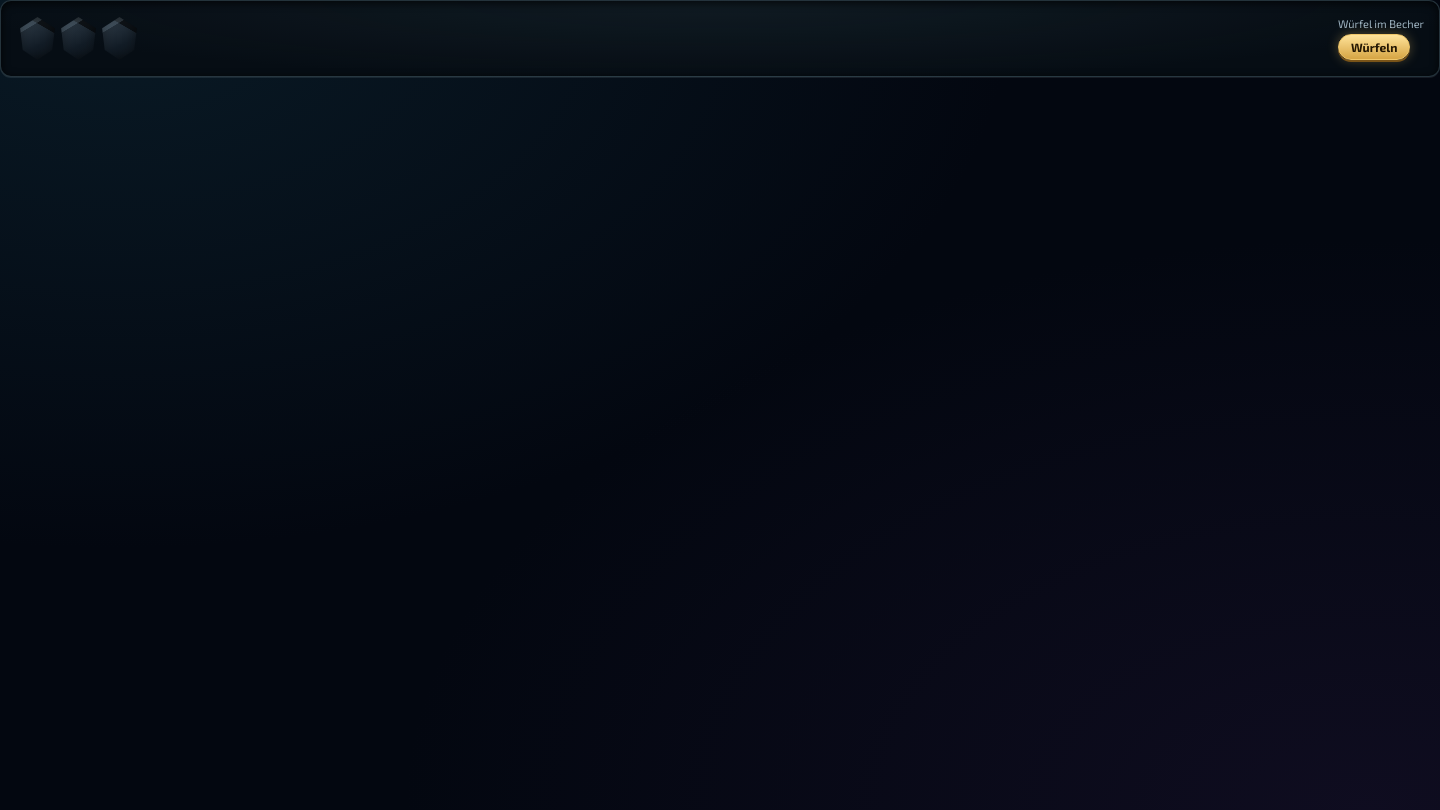
it: Würfelbecher am Tisch (eigener Wurf) › der eigene Wurf bleibt im Becher, bis „Würfeln“ ihn wirft; dann rollt er wie gewohnt
Expected: the text "Würfel im Becher" is shown, [1338,17,1424,30]
Expected: the text "2 Treffer" is not shown
Click the button "Würfeln" at (1374, 47), box [1338,34,1410,60]
Wait 940 ms
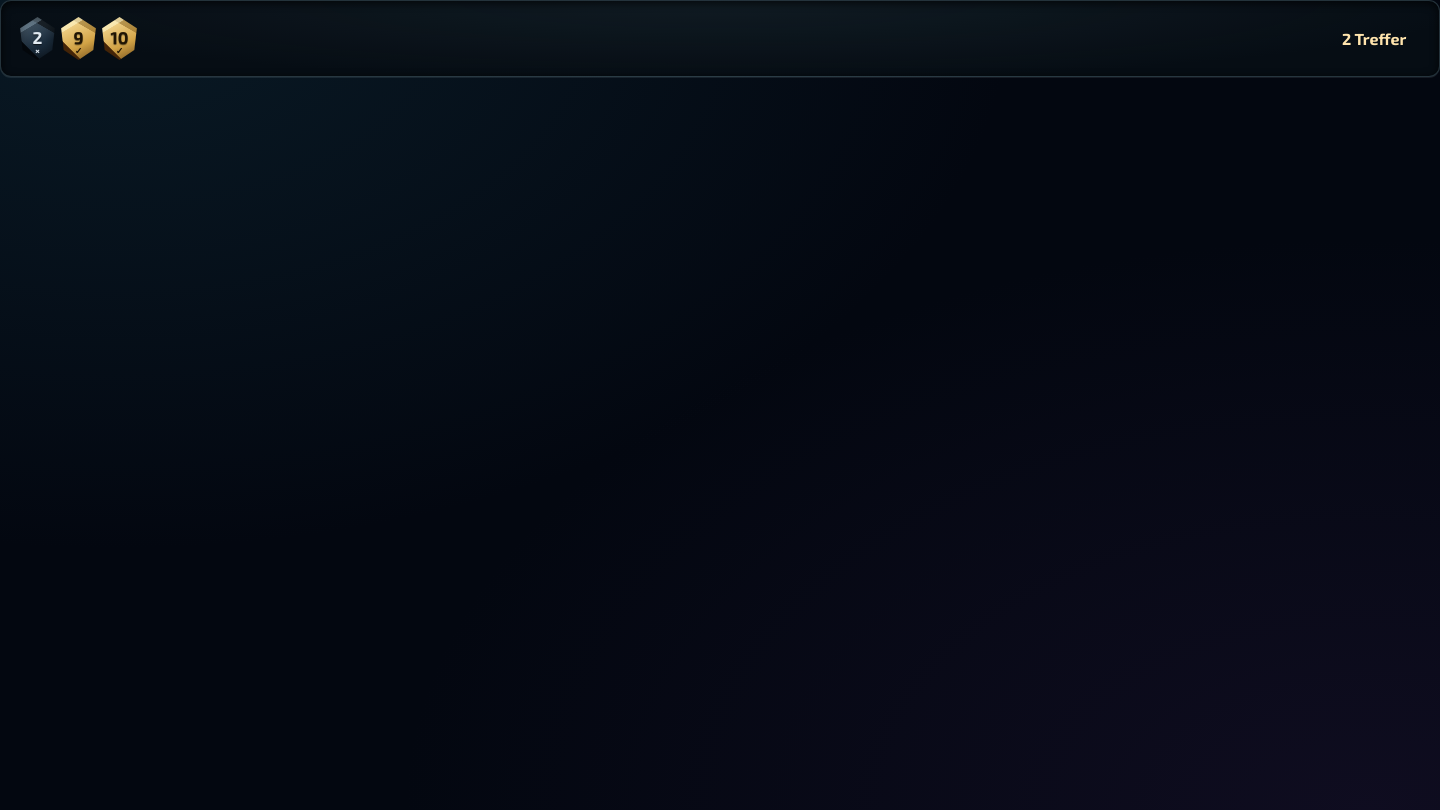
Now the text "2 Treffer" is shown, box [1342,29,1406,48]
